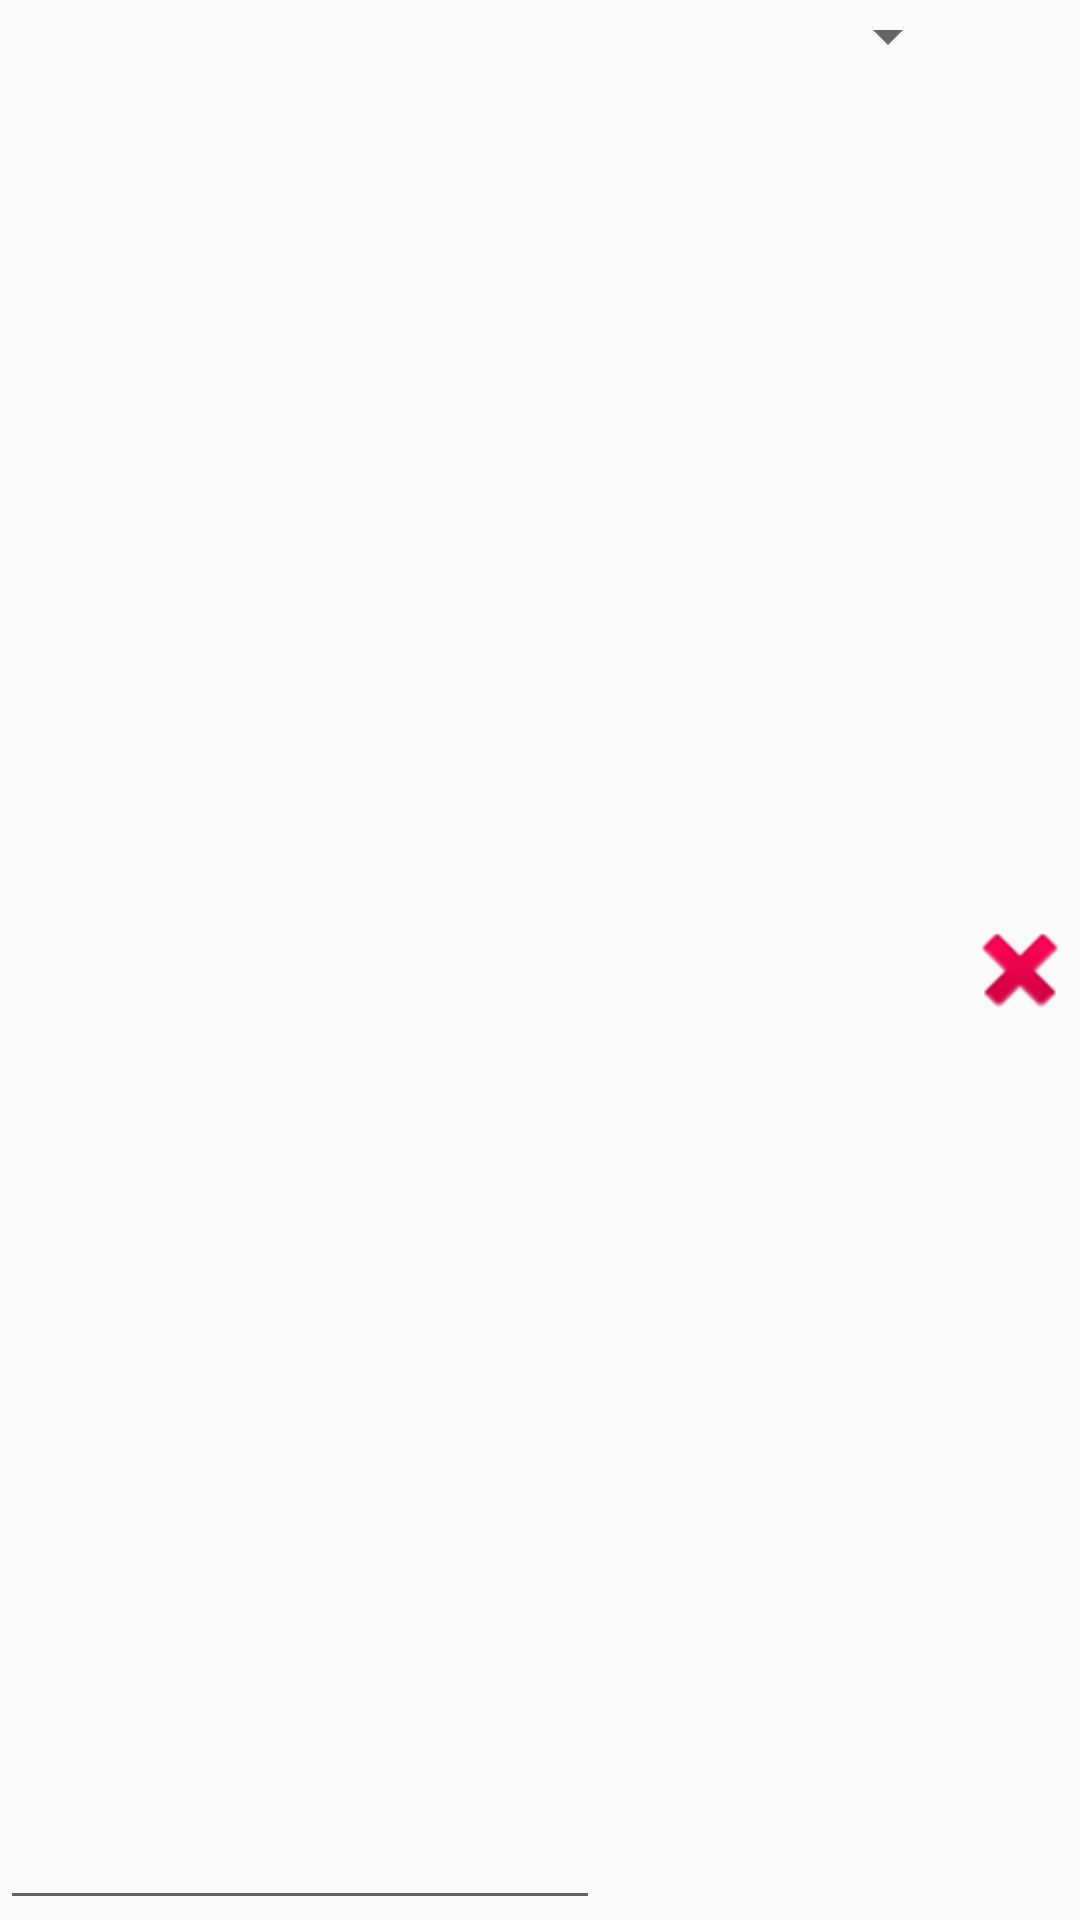

Icons on this 1080 x 1920 Android screen, each with its box as (x1, y1, x2, y2):
delete: (982, 934, 1058, 1008)
